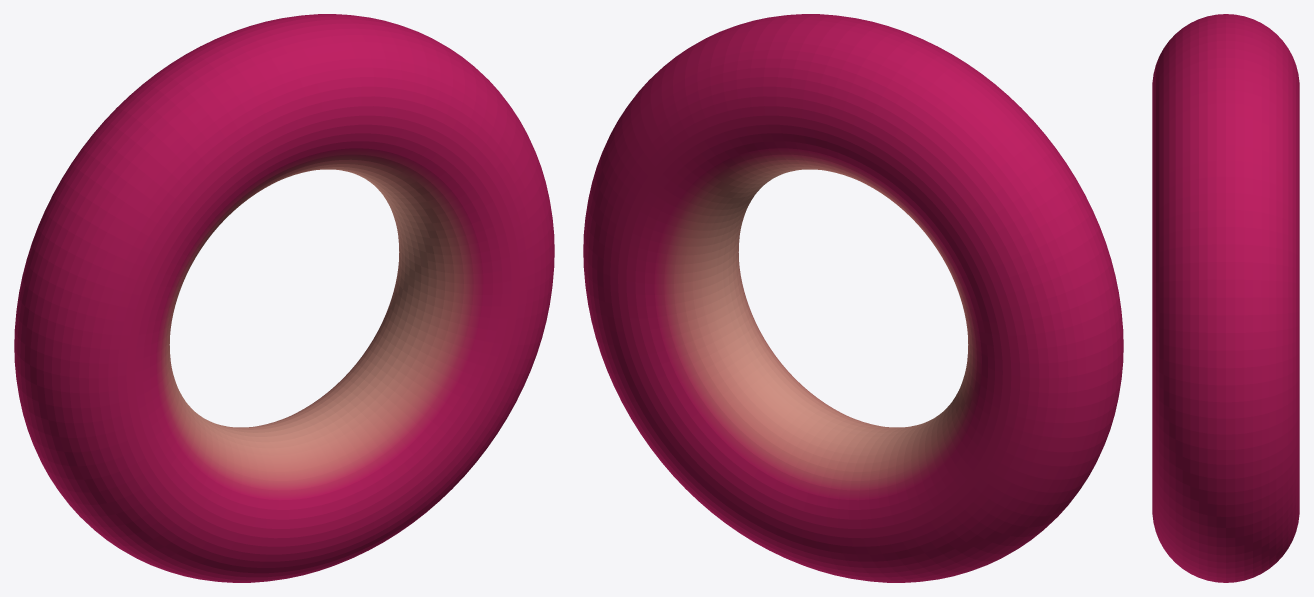
The picture shows the model from 3 angles, left to right: view 1: azimuth 30°, elevation 25°; view 2: azimuth 150°, elevation 25°; view 3: azimuth 270°, elevation 25°; orthographic projection. The views are drawn at different scales.
Parts seen in each view (by area): view 1: world; view 2: world; view 3: world.
Part boxes in pixels (bbox=[...]): world: bbox=[14, 14, 554, 582]; world: bbox=[583, 14, 1123, 582]; world: bbox=[1152, 14, 1299, 582].
Bounding box in the file's own units: 18 × 18 × 4.66.
